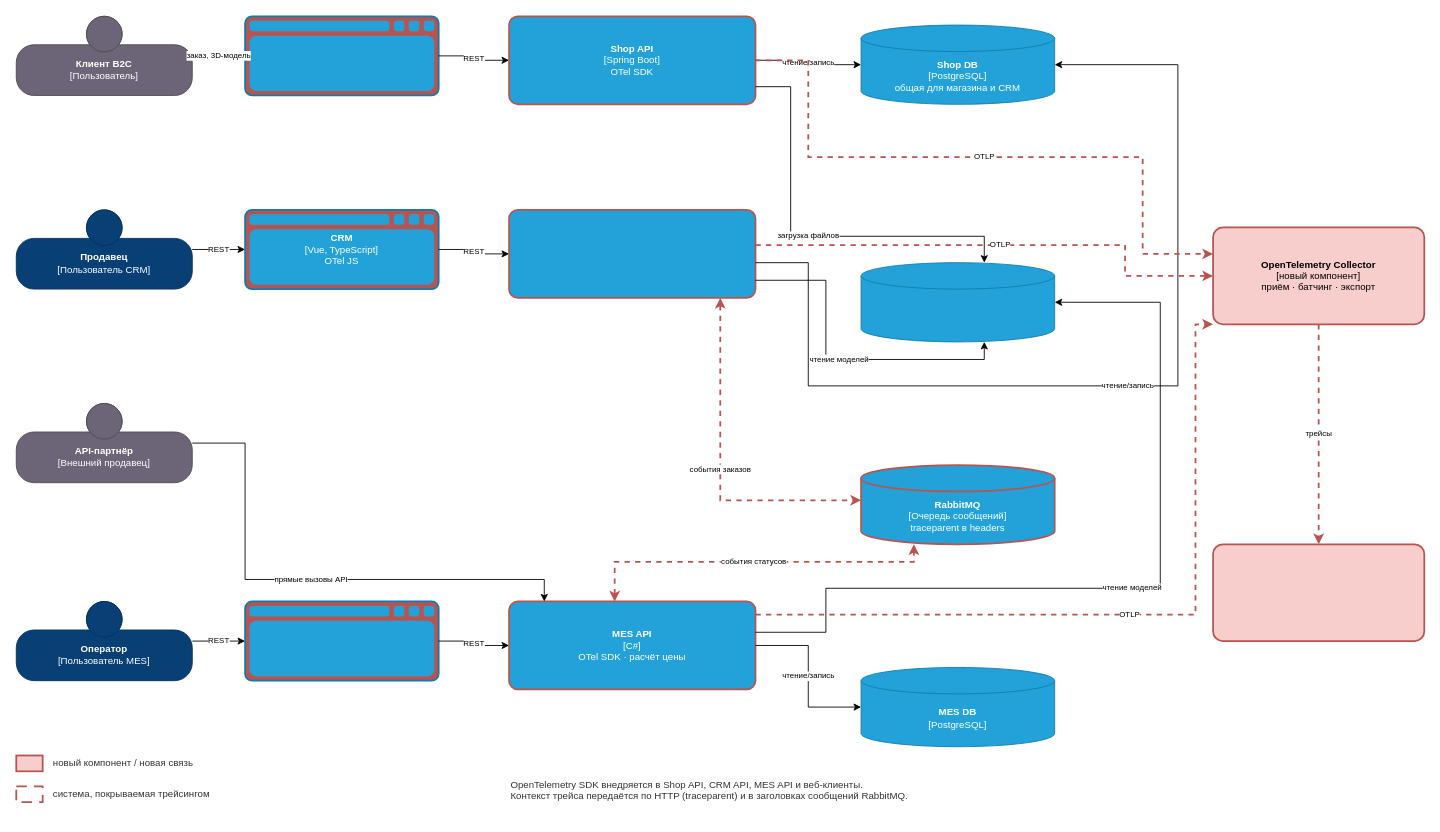
Some shapes in this 1440 by 832 pixel diagram are drawn without their labels. The shapes that lost their labels are listed below. From the top down, each one's box as (x1, y1, x2, y2) in pixels, then its label:
(244, 15, 439, 96): Онлайн-магазин [Vue, TypeScript, Three.js] OTel JS
(508, 209, 756, 298): CRM API [Spring Boot] OTel SDK
(860, 262, 1055, 342): 3D files storage [S3]
(1212, 543, 1425, 642): Jaeger [новый компонент] хранение трейсов · поиск · UI
(244, 600, 439, 681): MES [React, TypeScript] OTel JS
